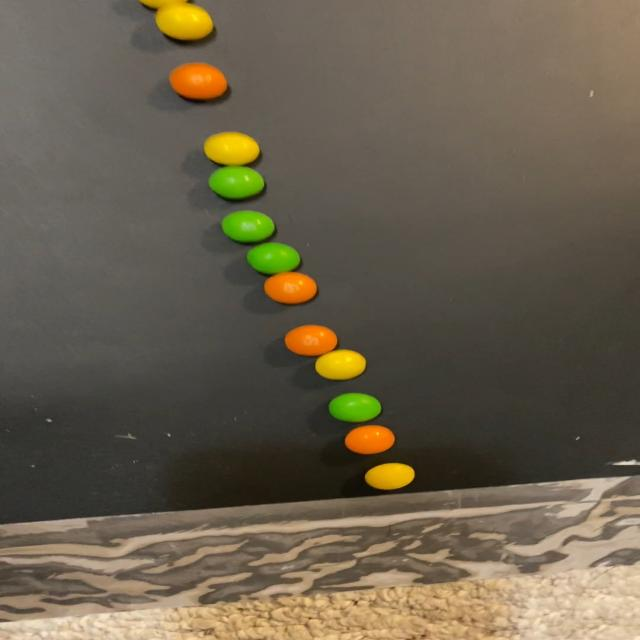smartie: (138, 0, 212, 40), (168, 62, 226, 99), (203, 131, 259, 165), (208, 166, 263, 199), (220, 210, 274, 242), (246, 242, 300, 274), (263, 272, 316, 304), (284, 325, 337, 356), (328, 393, 381, 423), (315, 350, 365, 380), (344, 426, 394, 455), (364, 464, 414, 490)
